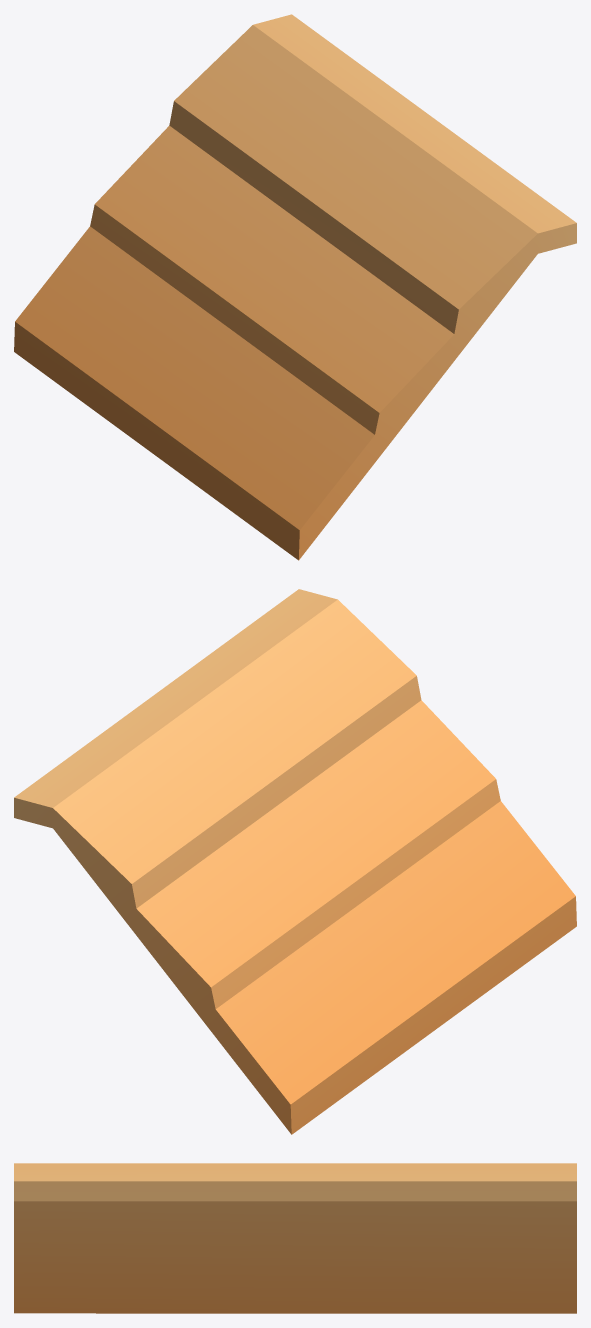
File: Roof_Straight_01.fbx
3 renders of one model, top to bottom at view 1: azimuth 30°, elevation 25°; view 2: azimuth 150°, elevation 25°; view 3: azimuth 270°, elevation 25°, orthographic.
Visible parts, largest first — view 1: Roof_Straight_01; view 2: Roof_Straight_01; view 3: Roof_Straight_01.
Part boxes in pixels (<box>): Roof_Straight_01: <box>14,14,576,560</box>; Roof_Straight_01: <box>14,589,576,1134</box>; Roof_Straight_01: <box>14,1163,576,1313</box>.
Bounding box in the file's own units: 2.82 × 2.61 × 5.
